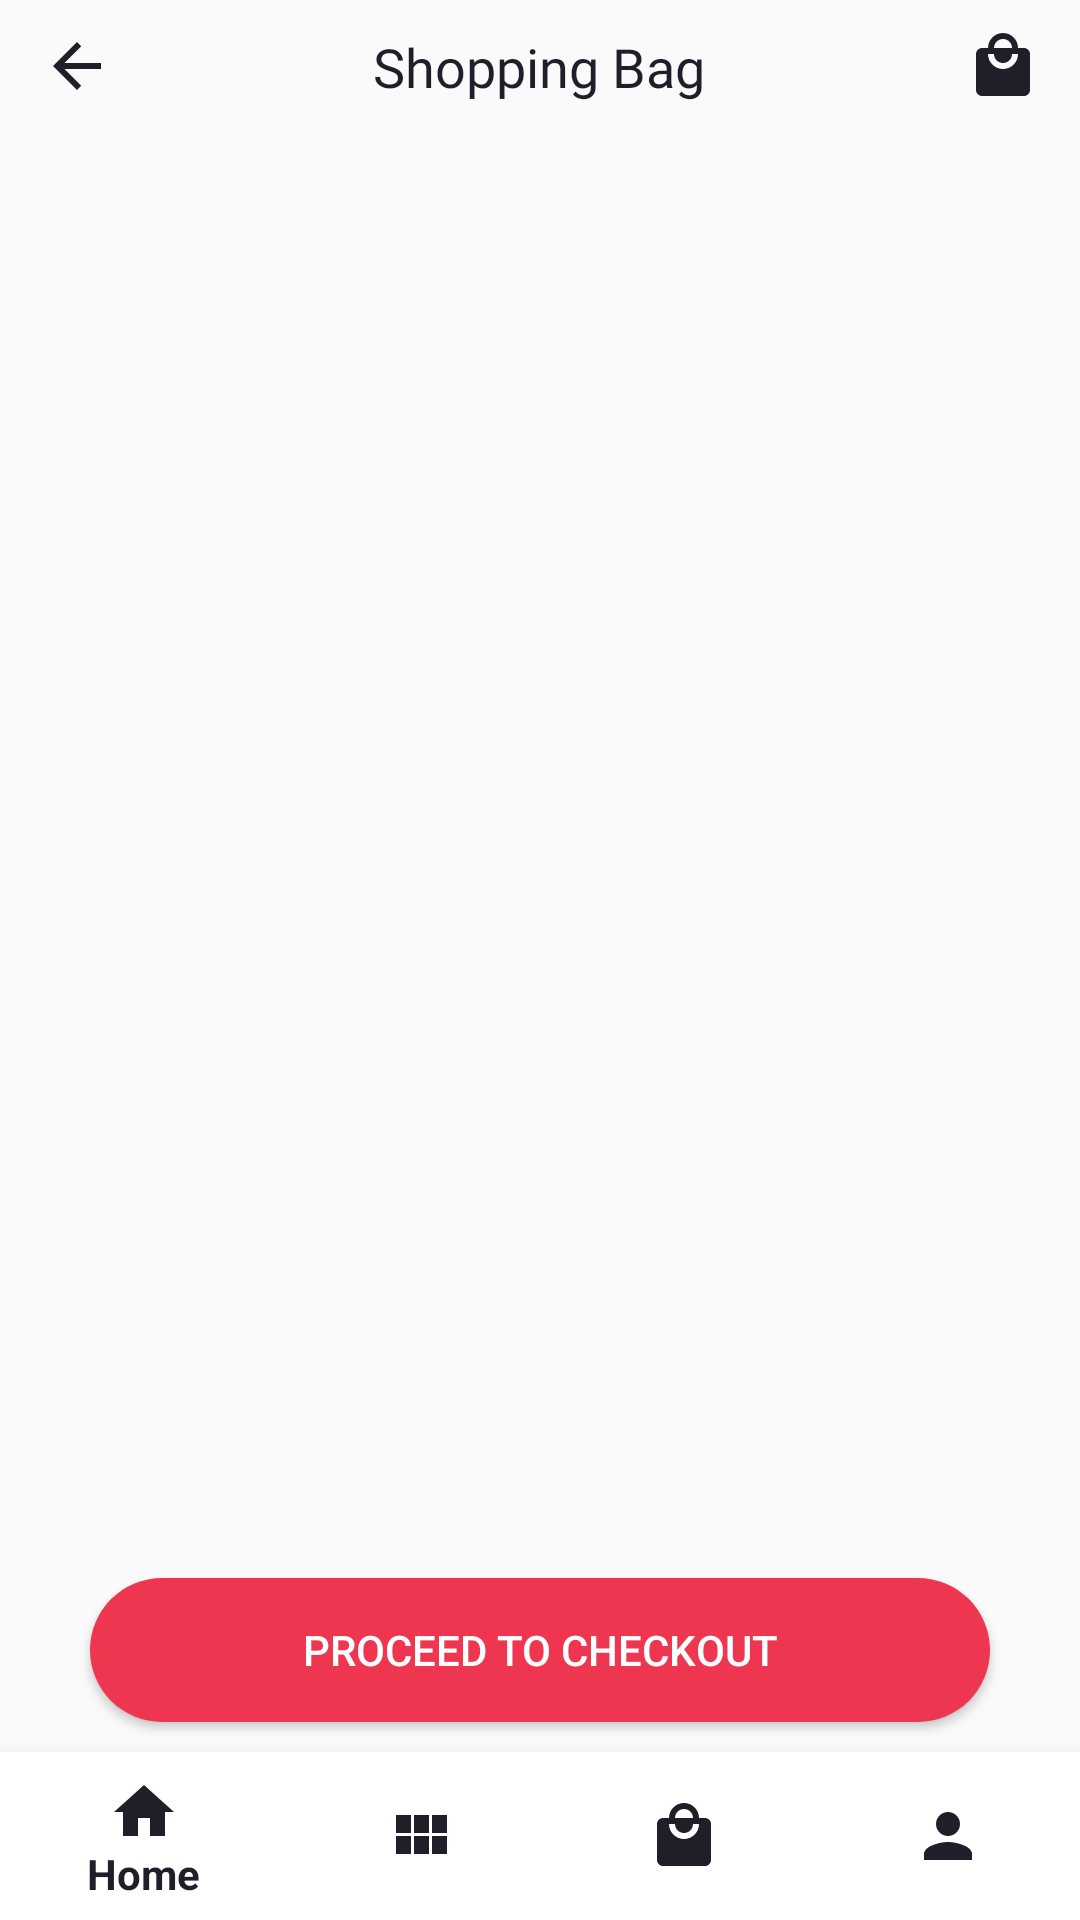

Icons on this 1080 x 1920 Android screen, each with the point to tap as (x,y):
arrow back: (77,66)
local mall: (1003,64)
